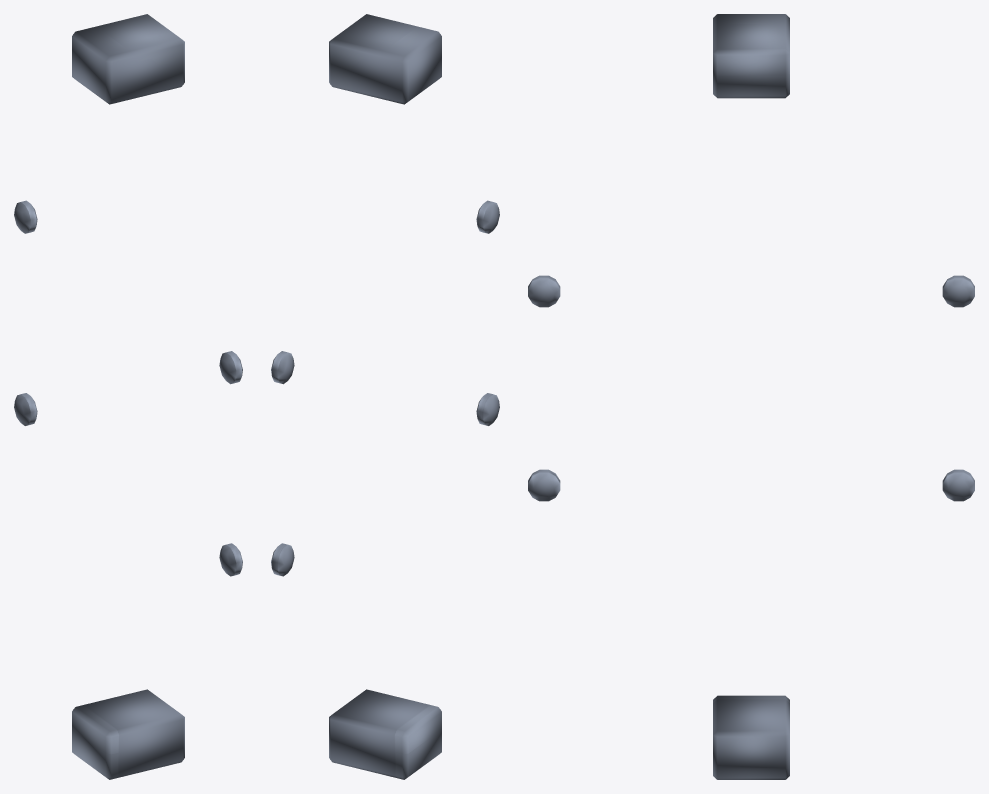
File: Remache_BrazoIzq_Acero.fbx
3 renders of one model, left to right at view 1: azimuth 30°, elevation 25°; view 2: azimuth 150°, elevation 25°; view 3: azimuth 270°, elevation 25°, orthographic.
Visible parts, largest first — view 1: Remache_BrazoIzq_Acero; view 2: Remache_BrazoIzq_Acero; view 3: Remache_BrazoIzq_Acero.
Part boxes in pixels (x1=…): Remache_BrazoIzq_Acero: x1=14, y1=14, x2=242, y2=779; Remache_BrazoIzq_Acero: x1=271, y1=14, x2=499, y2=779; Remache_BrazoIzq_Acero: x1=528, y1=14, x2=974, y2=779.
Size of the model in its own units: 0.2143 by 1.87 by 1.04.
